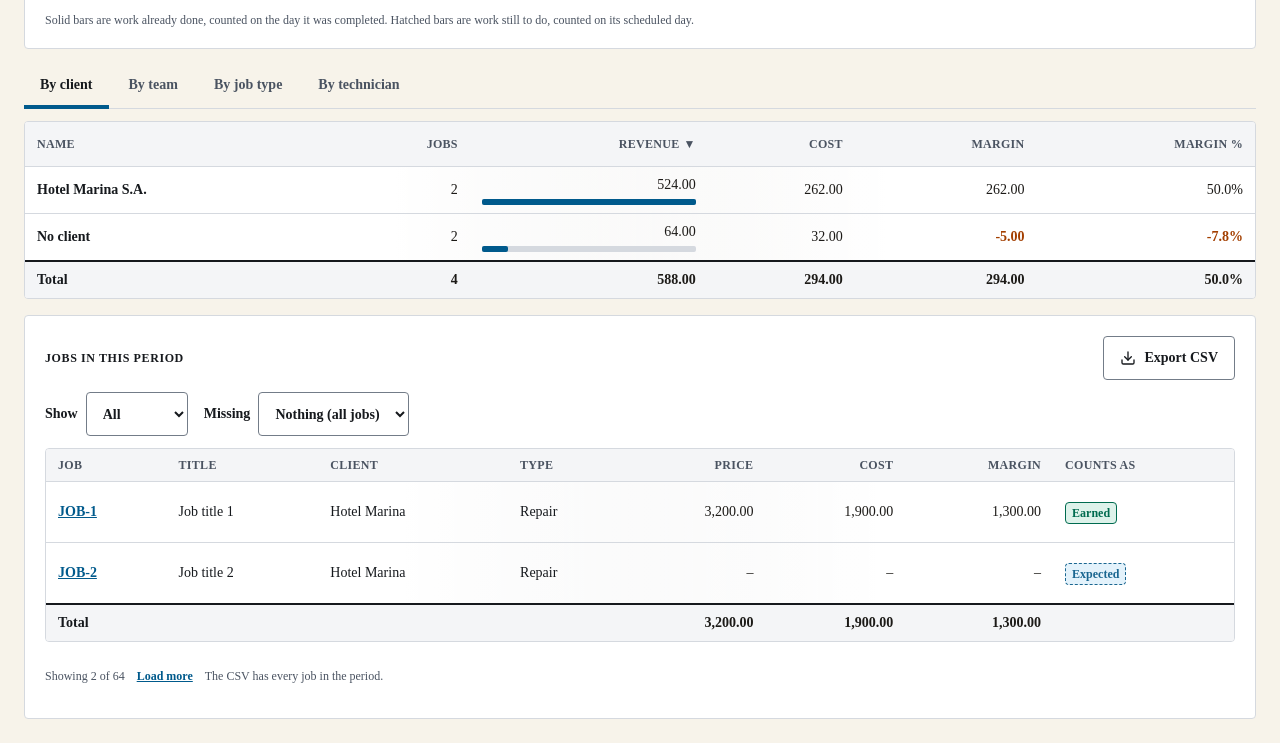
export CSV › explains a rate limit
(page scrolled)
Expected: the link "JOB-1" is shown, top-left (58, 504), bottom-right (97, 519)
Click the button "Export CSV" at (1169, 358), box top-left (1104, 336), bottom-right (1235, 380)
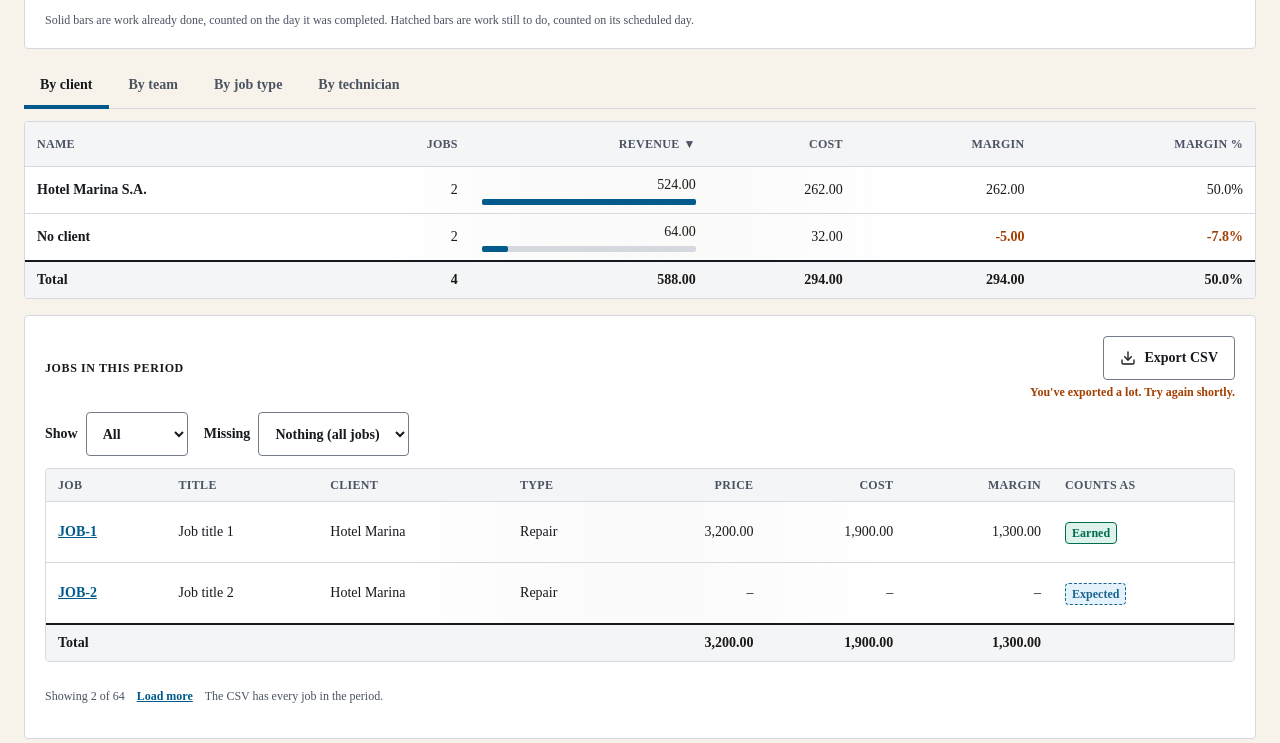
Result: the message reads "You've exported a lot. Try again shortly." at top-left (1030, 385), bottom-right (1235, 399)
